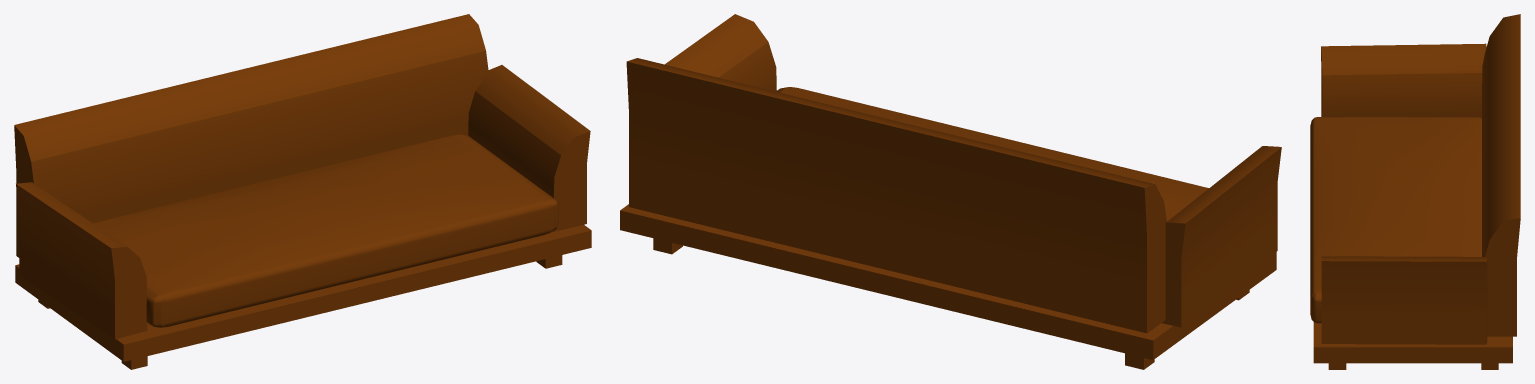
The model's file is Couch.fbx.
3 renders of one model, left to right at view 1: azimuth 30°, elevation 25°; view 2: azimuth 150°, elevation 25°; view 3: azimuth 270°, elevation 25°, orthographic. The views are drawn at different scales.
Parts seen in each view (by area): view 1: group12_pasted__group10_pasted__pasted__group9_pasted__paste; view 2: group12_pasted__group10_pasted__pasted__group9_pasted__paste; view 3: group12_pasted__group10_pasted__pasted__group9_pasted__paste.
Part boxes in pixels (x1,y1,x2,y2): group12_pasted__group10_pasted__pasted__group9_pasted__paste: (14, 14, 591, 369); group12_pasted__group10_pasted__pasted__group9_pasted__paste: (620, 14, 1281, 369); group12_pasted__group10_pasted__pasted__group9_pasted__paste: (1310, 14, 1520, 369).
Bounding box in the file's own units: 29.43 × 9.91 × 12.02.
